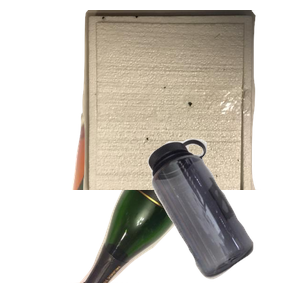glass: (66, 120, 279, 300)
metal: (69, 93, 265, 273)
plastic: (145, 136, 300, 300)
trash: (80, 10, 300, 190)
